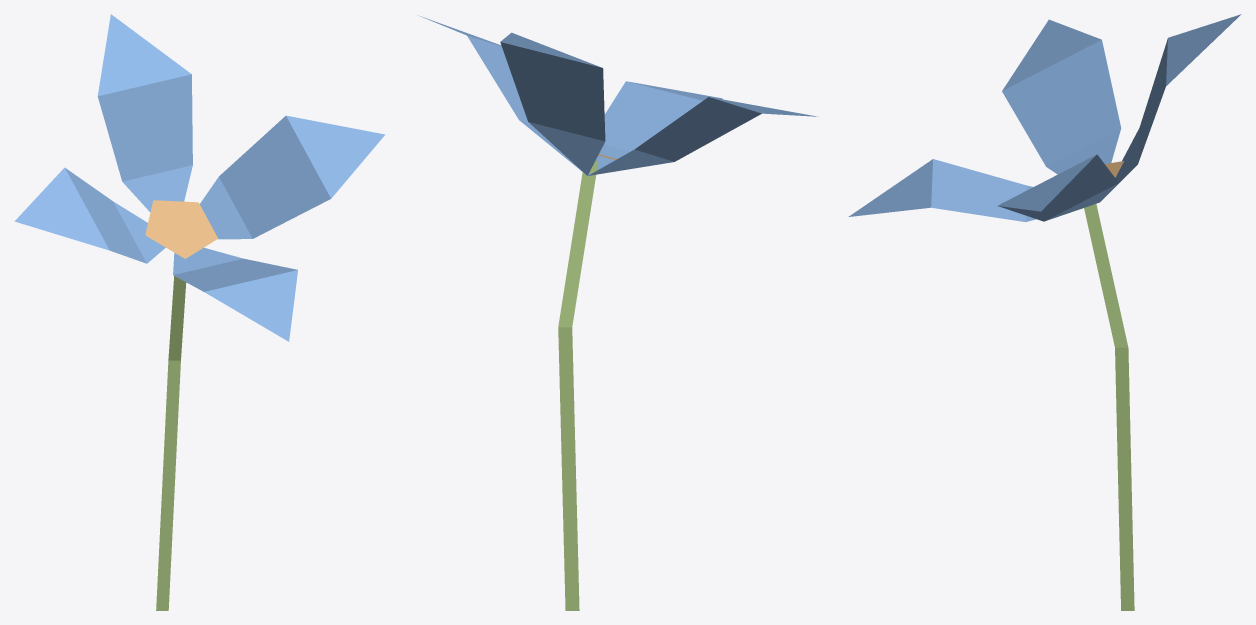
Rendered from Flower_a_OneS_03.fbx.
3 views of the same model, side by side, from view 1: azimuth 30°, elevation 25°; view 2: azimuth 150°, elevation 25°; view 3: azimuth 270°, elevation 25° (orthographic). The views are drawn at different scales.
Parts seen in each view (by area): view 1: Flower_a_OneS_03; view 2: Flower_a_OneS_03; view 3: Flower_a_OneS_03.
Part boxes in pixels (x1=…): Flower_a_OneS_03: x1=14, y1=14, x2=385, y2=610; Flower_a_OneS_03: x1=418, y1=15, x2=818, y2=610; Flower_a_OneS_03: x1=848, y1=14, x2=1241, y2=610.
Bounding box in the file's own units: 0.5833 × 0.8436 × 0.5052.
